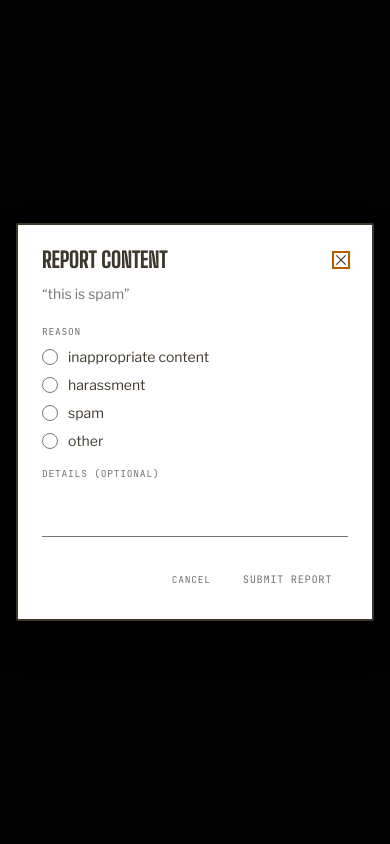
it: ReportContentModal (MysteryMixClub-4vii.13) › disables submit until a reason is picked
Expected: the button "submit report" is disabled, [227,564,348,595]
Step 1. Click the radio button labelled "spam" → point(50, 413), box [42,405,58,421]
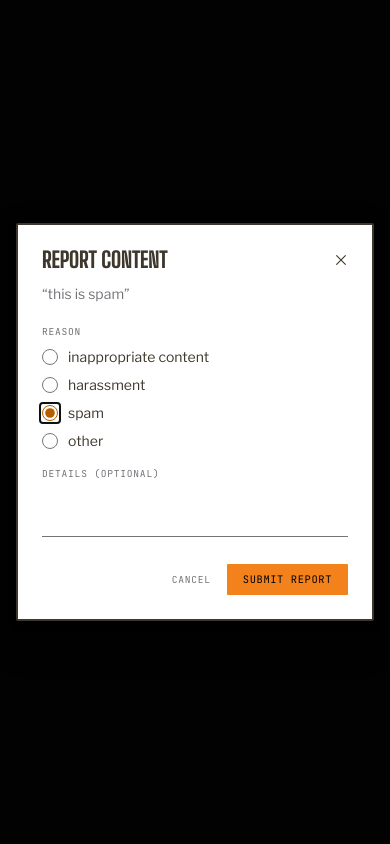
Expected: the button "submit report" is enabled, [227,564,348,595]
